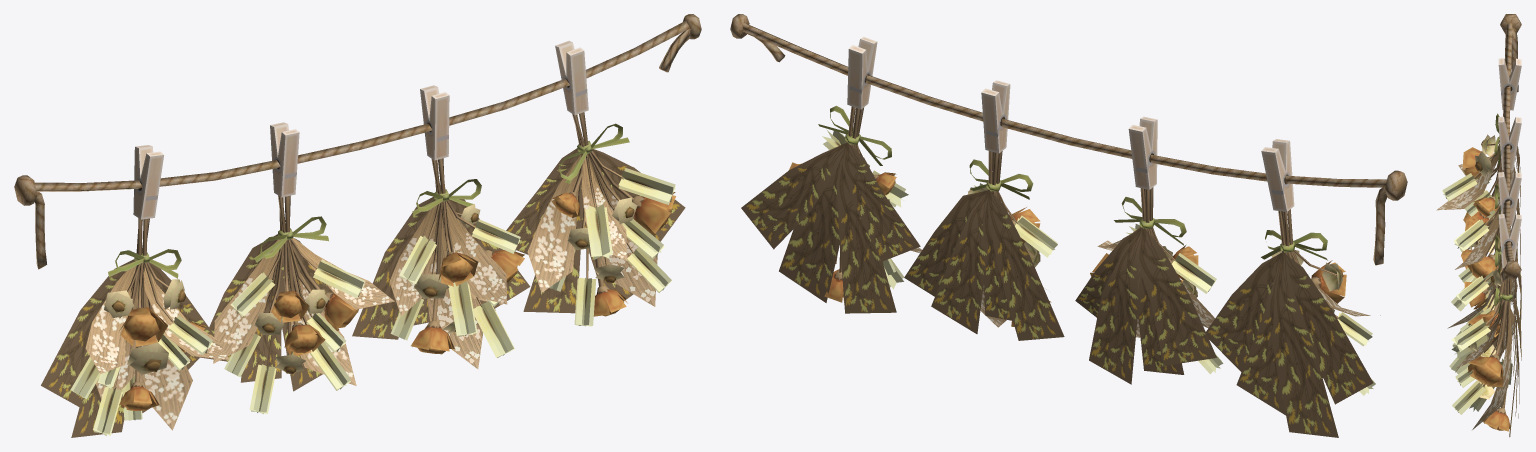
Rendered from wall-driedflower.glb.
3 renders of one model, left to right at view 1: azimuth 30°, elevation 25°; view 2: azimuth 150°, elevation 25°; view 3: azimuth 270°, elevation 25°, orthographic. The views are drawn at different scales.
Parts seen in each view (by area): view 1: Scene; view 2: Scene; view 3: Scene.
Boxes of the visible parts, x1,y1,x2,y2 form: Scene: [14, 14, 701, 437]; Scene: [730, 14, 1407, 437]; Scene: [1436, 14, 1521, 437].
Size of the model in its own units: 20 by 8.01 by 2.91.
Materials: 1 (1 with a texture image).
